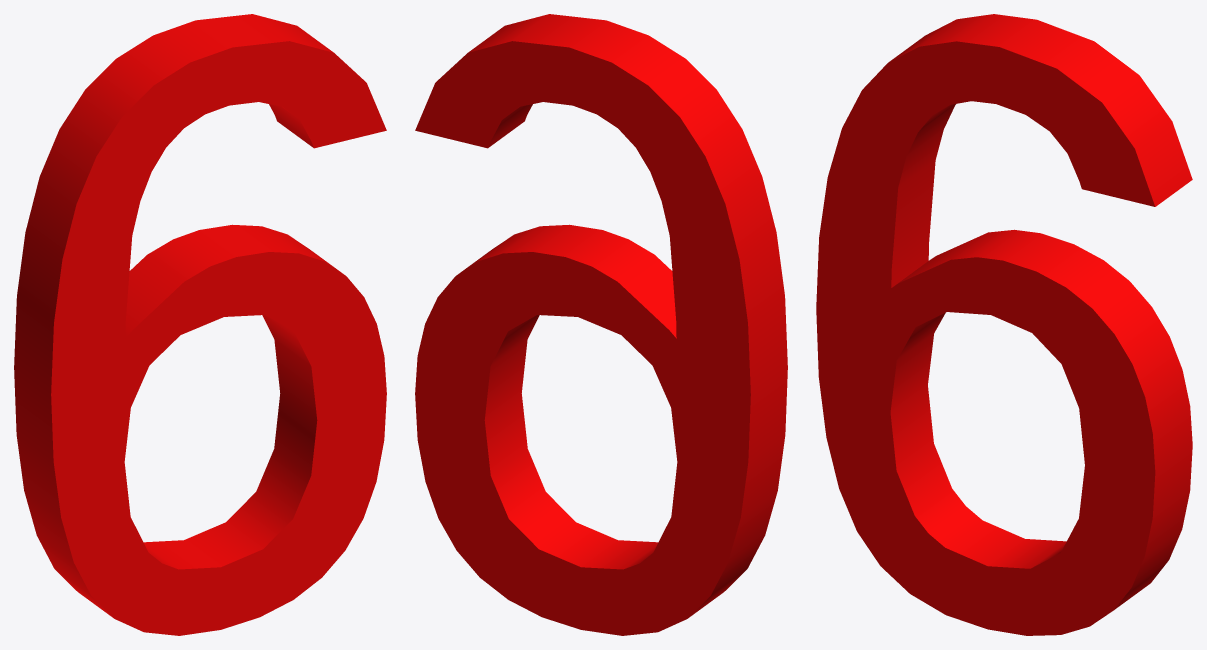
File: original-51.obj
The picture shows the model from 3 angles, left to right: view 1: azimuth 30°, elevation 25°; view 2: azimuth 150°, elevation 25°; view 3: azimuth 330°, elevation 25°; orthographic projection.
Visible parts, largest first — view 1: mesh82/mesh82-geometry#mesh82-geometry; view 2: mesh82/mesh82-geometry#mesh82-geometry; view 3: mesh82/mesh82-geometry#mesh82-geometry.
Part boxes in pixels (box(x1,y1,x2,y2)): mesh82/mesh82-geometry#mesh82-geometry: box(14, 14, 386, 635); mesh82/mesh82-geometry#mesh82-geometry: box(415, 14, 787, 635); mesh82/mesh82-geometry#mesh82-geometry: box(816, 14, 1192, 635).
Bounding box in the file's own units: 0.00625 × 0.0103 × 0.00119.
